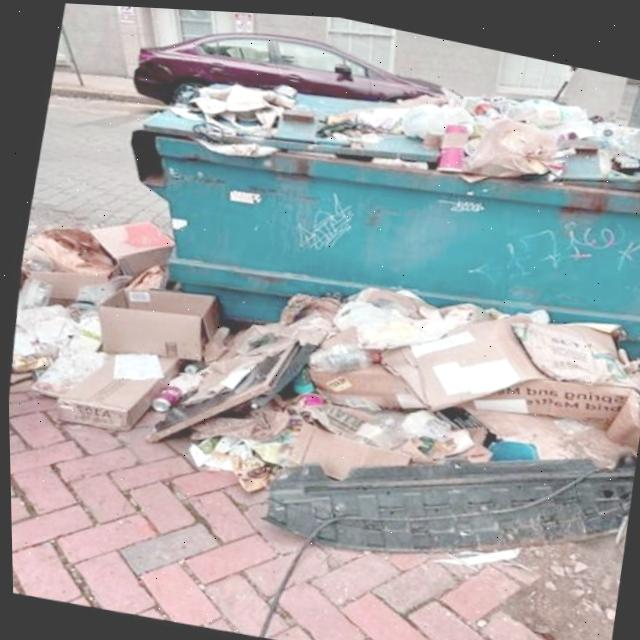Garbage: (8, 221, 640, 549), (313, 89, 640, 179), (165, 82, 291, 136), (190, 138, 272, 155), (434, 82, 458, 96)
Plastic: (312, 92, 440, 141), (397, 103, 466, 133), (482, 437, 533, 459), (434, 82, 458, 104), (288, 367, 308, 392), (295, 392, 319, 406), (179, 362, 193, 373)
Plastic_Container: (430, 121, 462, 169)
Plastic_bottle: (500, 96, 579, 123), (455, 94, 493, 115), (587, 118, 613, 139), (458, 134, 473, 153)
Rubber: (259, 456, 633, 550)
can: (145, 385, 177, 411)
